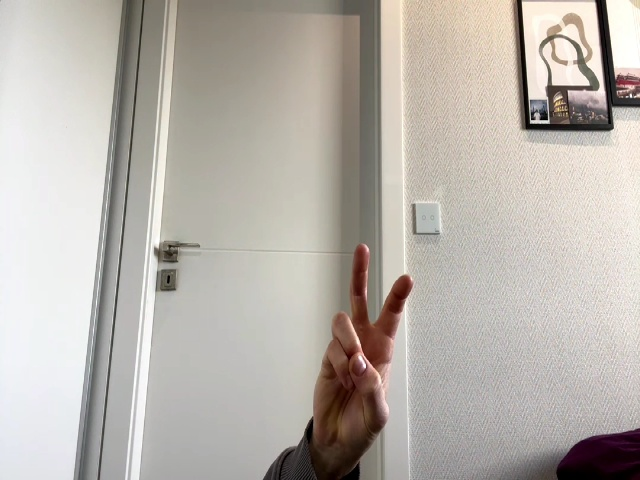H: (312, 243, 414, 447)
